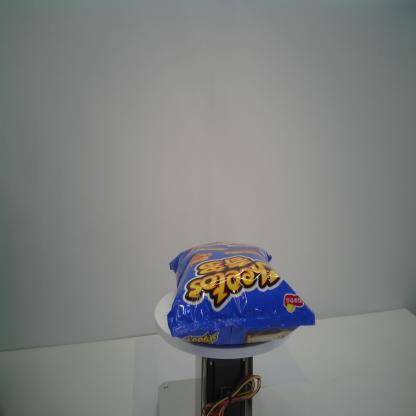Puffed Food: (165, 240, 315, 347)
